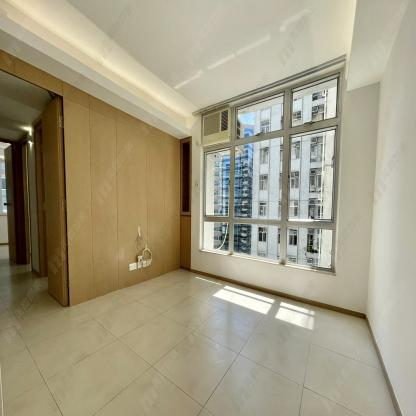AC: (202, 107, 231, 148)
